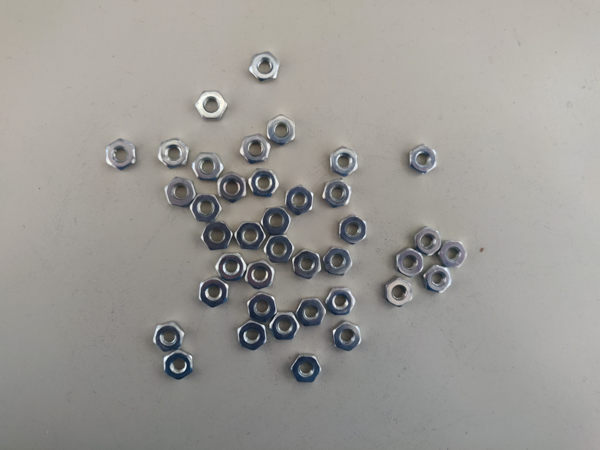nut: (190, 192, 224, 223), (163, 350, 195, 382), (331, 321, 363, 353), (106, 139, 137, 171), (152, 323, 184, 354), (214, 252, 246, 283), (384, 277, 416, 308), (248, 53, 281, 83), (243, 261, 276, 291), (164, 176, 195, 207), (195, 91, 227, 121), (266, 115, 298, 145), (240, 135, 272, 165), (248, 169, 280, 199), (217, 173, 249, 203), (193, 152, 225, 182), (201, 222, 233, 252), (247, 294, 279, 324), (269, 311, 301, 341), (237, 321, 268, 351), (198, 279, 229, 309), (290, 356, 320, 386), (159, 139, 189, 169), (413, 226, 443, 256), (439, 239, 469, 269), (424, 265, 454, 295), (397, 248, 427, 278), (329, 148, 359, 178), (338, 215, 368, 245), (322, 180, 352, 210), (284, 186, 314, 216), (296, 297, 326, 327), (292, 250, 322, 280), (265, 234, 295, 264), (261, 208, 291, 238), (409, 145, 439, 174), (324, 247, 353, 277), (326, 289, 356, 318), (234, 222, 264, 251)
